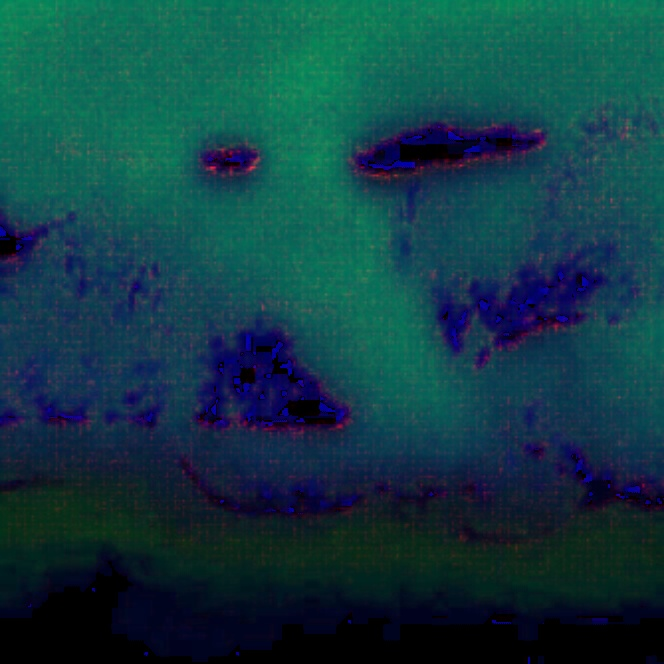rip_current: (191, 89, 490, 462)
